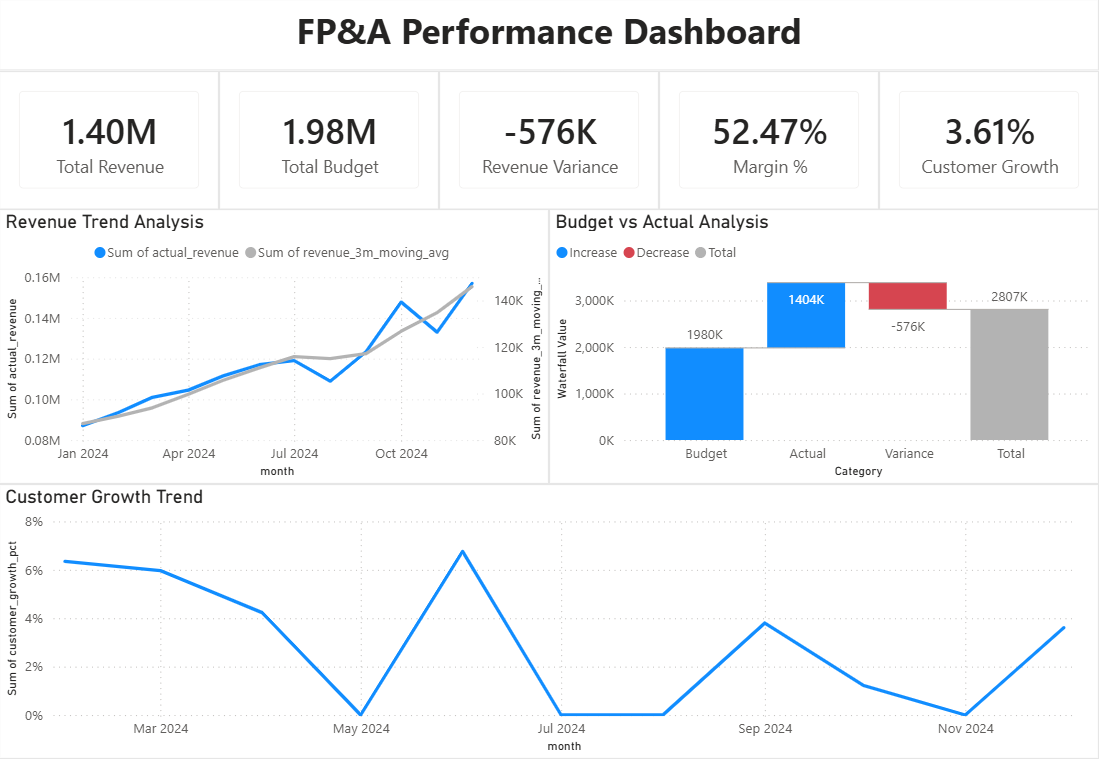

Layout of this report page (visuals, bound fields, positions):
{"tool":"powerbi","page":{"name":"Page 1","canvas":[1280,720],"ordinal":0},"visuals":[{"type":"cardVisual","fields":{"Data":["public v_fpna_mart.Total Revenue"]},"box":[0,65.6,200,125.6],"z":0},{"type":"cardVisual","fields":{"Data":["public v_fpna_mart.Total Budget"]},"box":[200,65.6,200,125.6],"z":1000},{"type":"cardVisual","fields":{"Data":["public v_fpna_mart.Revenue Variance"]},"box":[400,65.6,200,125.6],"z":2000},{"type":"cardVisual","fields":{"Data":["public v_fpna_mart.Margin %"]},"box":[600,65.6,200,125.6],"z":3000},{"type":"cardVisual","fields":{"Data":["public v_customer_growth.Customer Growth %"]},"box":[800,65.6,200,125.6],"z":4000},{"type":"lineChart","title":"Revenue Trend Analysis","fields":{"Category":["public v_fpna_mart.month"],"Y":["Sum(public v_fpna_mart.actual_revenue)"],"Y2":["Sum(public v_fpna_mart.revenue_3m_moving_avg)"]},"box":[0,191.1,500,250],"z":5000},{"type":"waterfallChart","title":"Budget vs Actual Analysis","fields":{"Category":["WaterfallCategoryTable.Category"],"Y":["WaterfallCategoryTable.Waterfall Value"]},"box":[500,191.1,500,250],"z":6000},{"type":"lineChart","title":"Customer Growth Trend","fields":{"Category":["public v_customer_growth.month.Variation.Date Hierarchy.Year"],"Y":["Sum(public v_customer_growth.customer_growth_pct)"]},"box":[0,441.1,1000,250],"z":7000},{"type":"textbox","box":[0,0,1000.4,65],"z":7001}]}

Visuals, with their boxes on the page's 1280x720 design canvas (x1, y1, x2, y2). These are canvas units, not pixel positions in the 1099x760 screenshot, which may show the page scaled, cropped or inside an application window:
cardVisual - public v_fpna_mart.Total Revenue: {"x1": 0, "y1": 66, "x2": 200, "y2": 191}
cardVisual - public v_fpna_mart.Total Budget: {"x1": 200, "y1": 66, "x2": 400, "y2": 191}
cardVisual - public v_fpna_mart.Revenue Variance: {"x1": 400, "y1": 66, "x2": 600, "y2": 191}
cardVisual - public v_fpna_mart.Margin %: {"x1": 600, "y1": 66, "x2": 800, "y2": 191}
cardVisual - public v_customer_growth.Customer Growth %: {"x1": 800, "y1": 66, "x2": 1000, "y2": 191}
"Revenue Trend Analysis" lineChart: {"x1": 0, "y1": 191, "x2": 500, "y2": 441}
"Budget vs Actual Analysis" waterfallChart: {"x1": 500, "y1": 191, "x2": 1000, "y2": 441}
"Customer Growth Trend" lineChart: {"x1": 0, "y1": 441, "x2": 1000, "y2": 691}
textbox: {"x1": 0, "y1": 0, "x2": 1000, "y2": 65}
